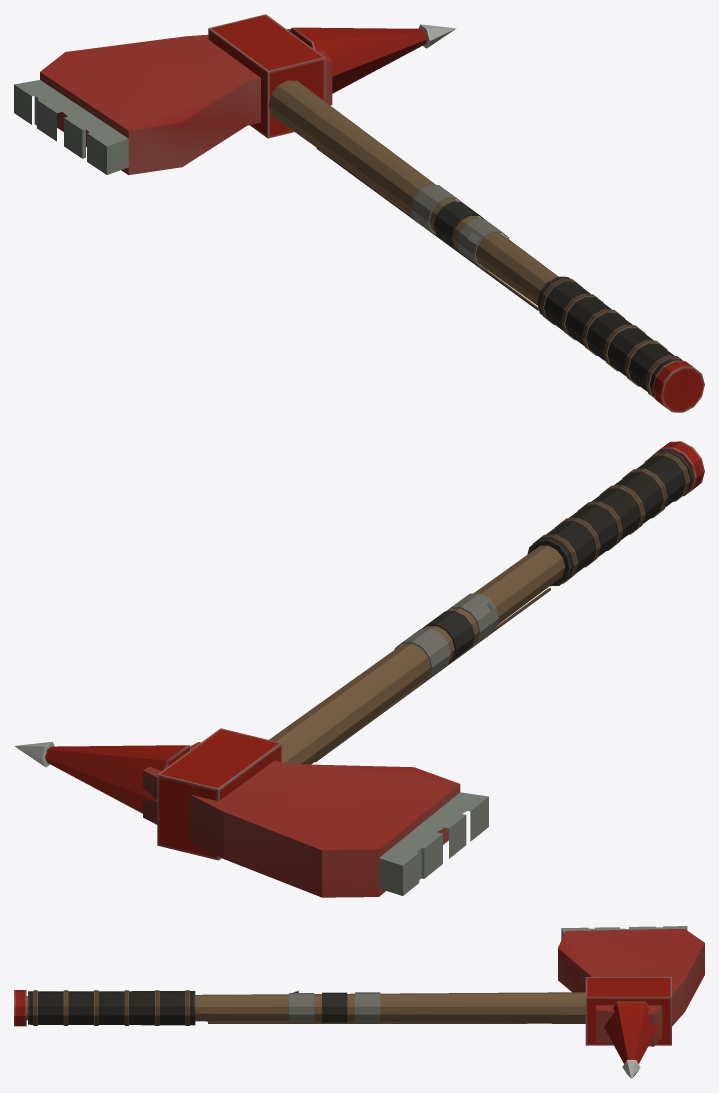
Rendered from fire_ax.glb.
3 renders of one model, top to bottom at view 1: azimuth 30°, elevation 25°; view 2: azimuth 150°, elevation 25°; view 3: azimuth 270°, elevation 25°, orthographic. The views are drawn at different scales.
Parts seen in each view (by area): view 1: fireaxeRedHead, fireaxeWoodHandle, fireaxeEdgeFrame, fireaxeHandleSocket, fireaxeCuttingEdge, fireaxeRearPick, frissonWeaponDress; view 2: fireaxeRedHead, fireaxeWoodHandle, fireaxeEdgeFrame, fireaxeHandleSocket, fireaxeCuttingEdge, fireaxeRearPick, frissonWeaponDress; view 3: fireaxeWoodHandle, fireaxeRedHead, fireaxeEdgeFrame, fireaxeHandleSocket, frissonWeaponDress, fireaxeRearPick, fireaxeCuttingEdge.
Part boxes in pixels (x1,y1,x2,y2): fireaxeRedHead: [40, 29, 332, 175]; fireaxeWoodHandle: [268, 80, 558, 305]; fireaxeEdgeFrame: [316, 24, 704, 412]; fireaxeHandleSocket: [208, 14, 325, 138]; fireaxeCuttingEdge: [14, 80, 128, 174]; fireaxeRearPick: [290, 27, 427, 93]; frissonWeaponDress: [411, 184, 508, 269]; fireaxeRedHead: [143, 742, 460, 897]; fireaxeWoodHandle: [269, 545, 565, 764]; fireaxeEdgeFrame: [14, 441, 704, 767]; fireaxeHandleSocket: [157, 728, 281, 860]; fireaxeCuttingEdge: [379, 792, 488, 895]; fireaxeRearPick: [45, 745, 191, 813]; frissonWeaponDress: [394, 593, 498, 681]; fireaxeWoodHandle: [26, 992, 585, 1023]; fireaxeRedHead: [558, 929, 704, 1046]; fireaxeEdgeFrame: [14, 990, 640, 1078]; fireaxeHandleSocket: [585, 977, 671, 1045]; frissonWeaponDress: [289, 990, 380, 1022]; fireaxeRearPick: [604, 1001, 660, 1063]; fireaxeCuttingEdge: [561, 926, 687, 939].
Bounding box in the file's own units: 0.6655 × 0.105 × 1.36.
